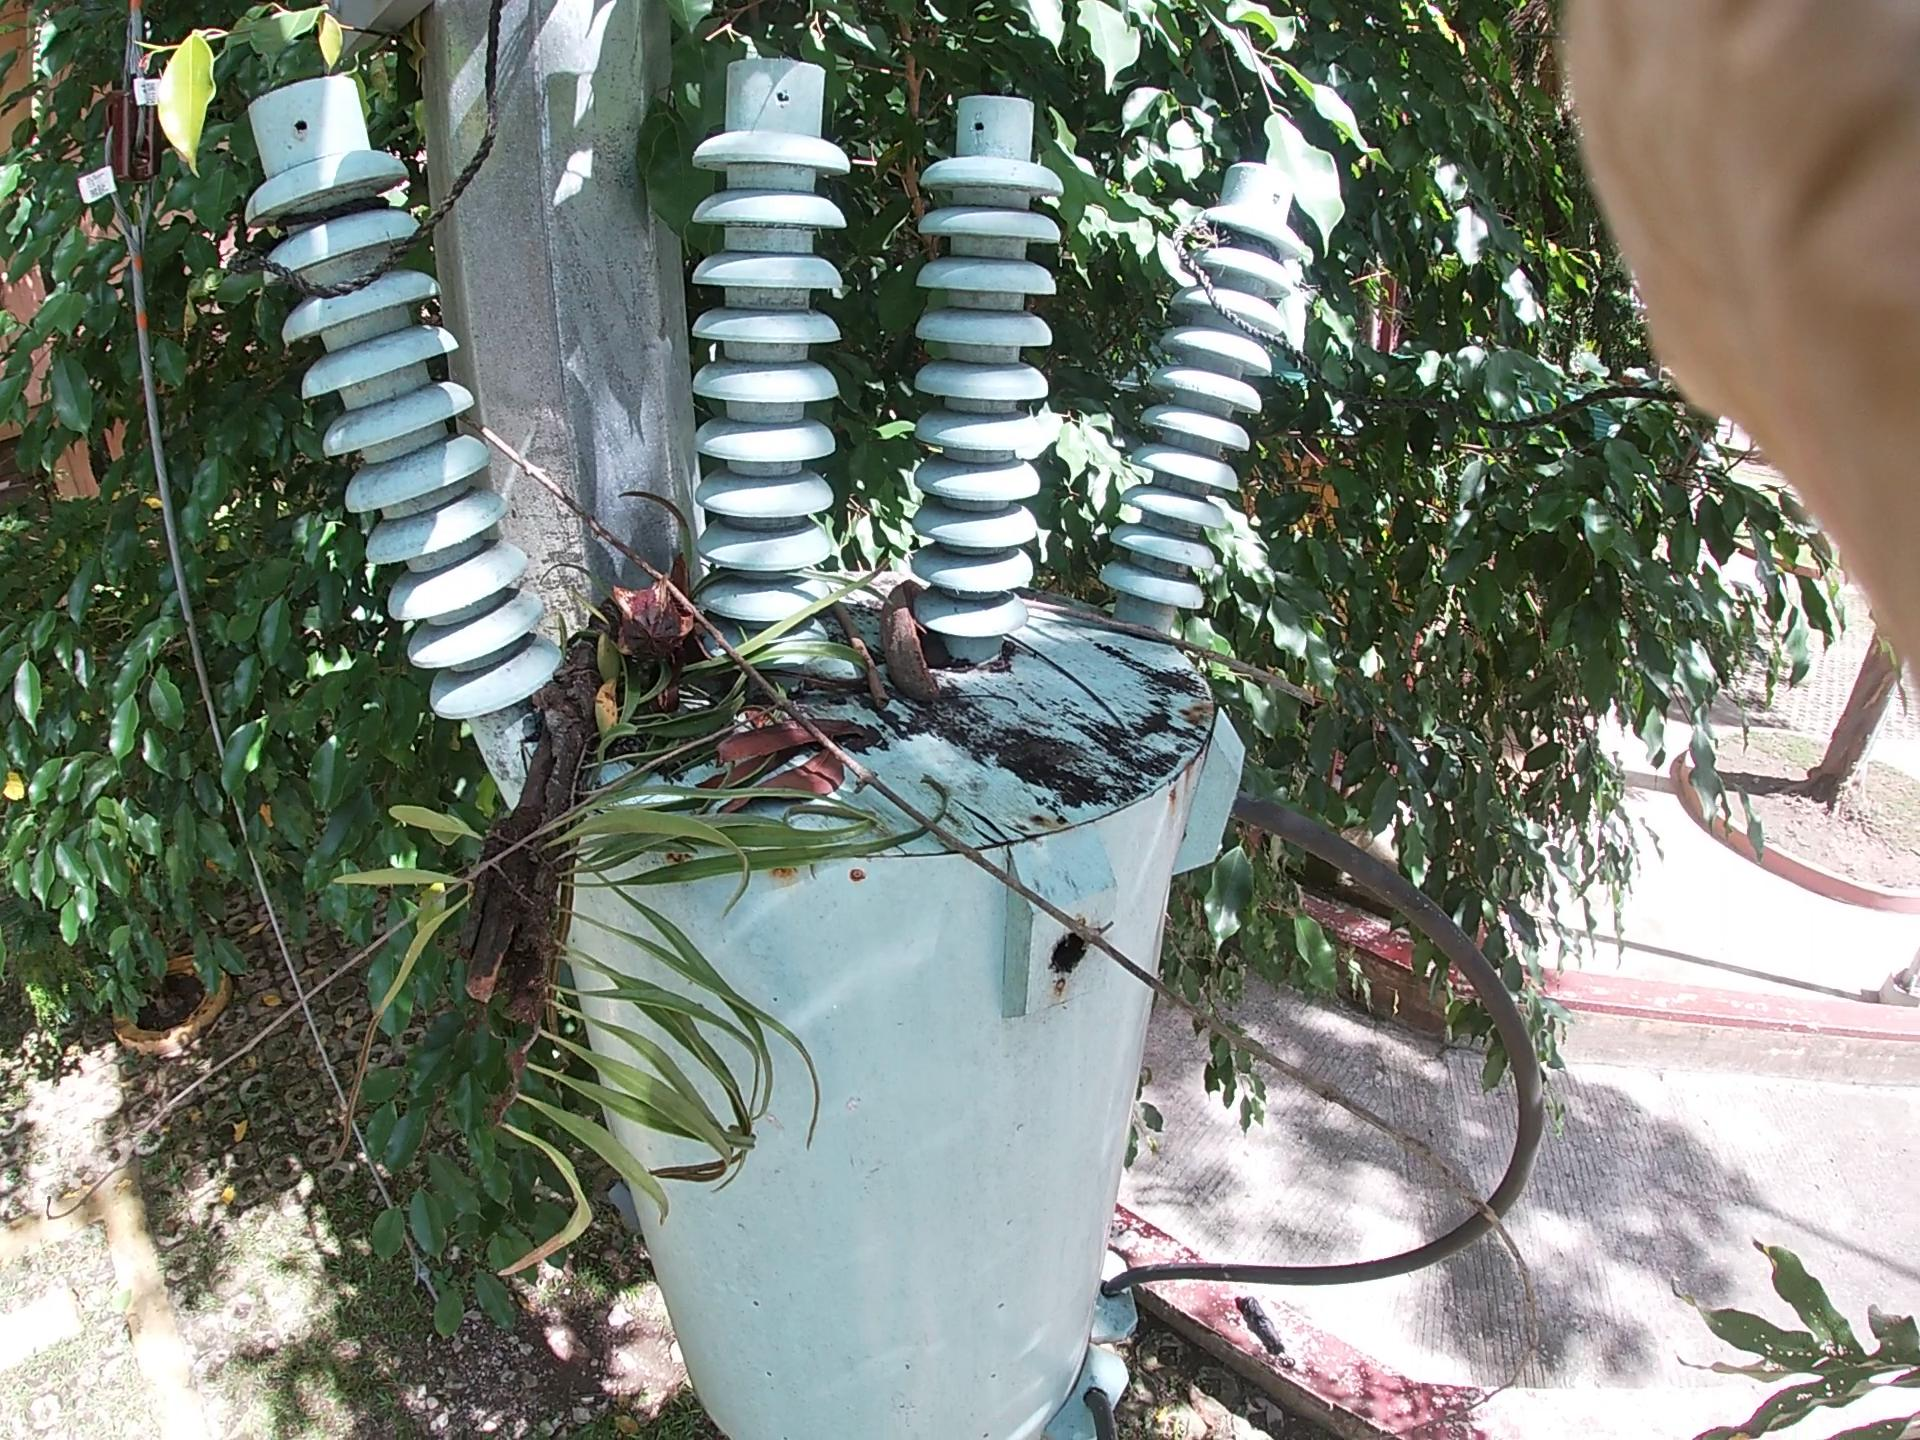branch with leaves: (443, 228, 977, 1269)
leaf: (379, 2, 1246, 510)
mahogany fruit: (848, 549, 972, 764), (594, 555, 717, 720)
tree branch: (416, 377, 1432, 1180), (977, 557, 1346, 791), (779, 489, 925, 753)
